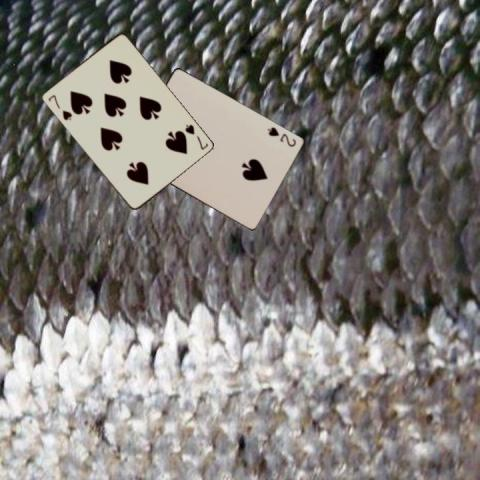2s: (265, 124, 297, 149)
7s: (45, 91, 73, 122), (182, 122, 210, 152)
